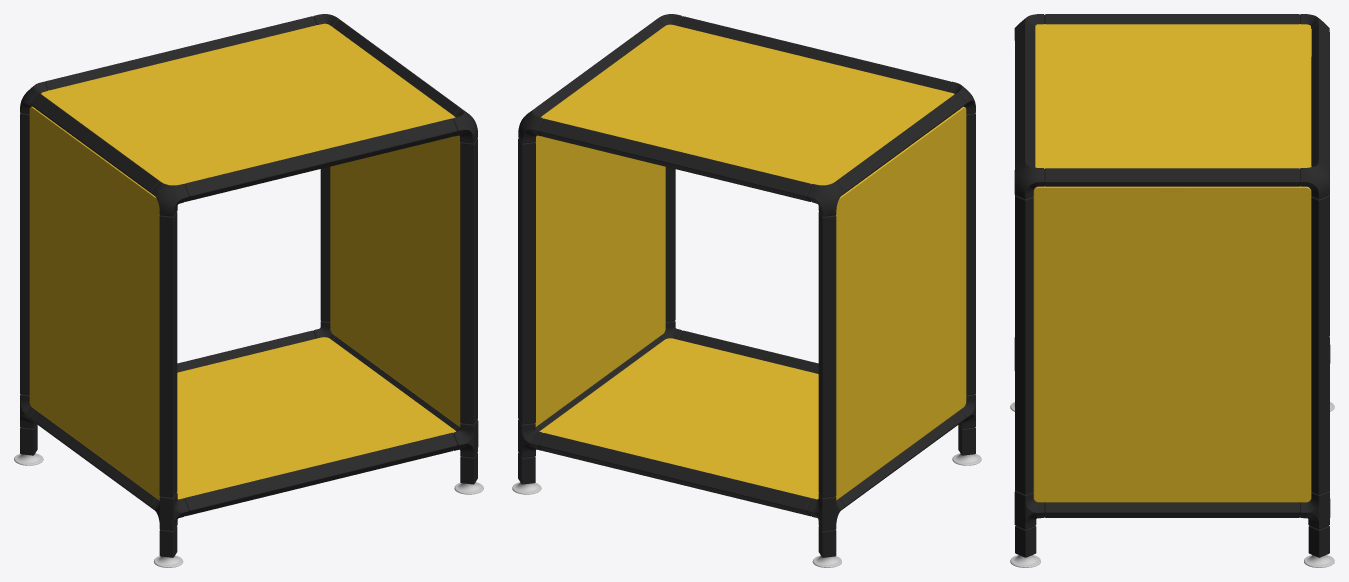
The picture shows the model from 3 angles, left to right: view 1: azimuth 30°, elevation 25°; view 2: azimuth 150°, elevation 25°; view 3: azimuth 270°, elevation 25°; orthographic projection. The views are drawn at different scales.
Visible parts, largest first — view 1: 420x329x420; view 2: 420x329x420; view 3: 420x329x420.
Boxes of the visible parts, <box> form: 420x329x420: <box>14,14,483,567</box>; 420x329x420: <box>512,14,981,567</box>; 420x329x420: <box>1010,14,1334,567</box>.
Bounding box in the file's own units: 0.5099 × 0.5593 × 0.4182.
